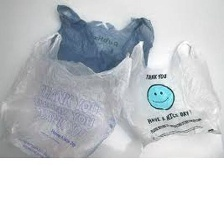plastic_bag: (0, 30, 133, 160), (108, 36, 224, 154), (50, 3, 157, 80)
